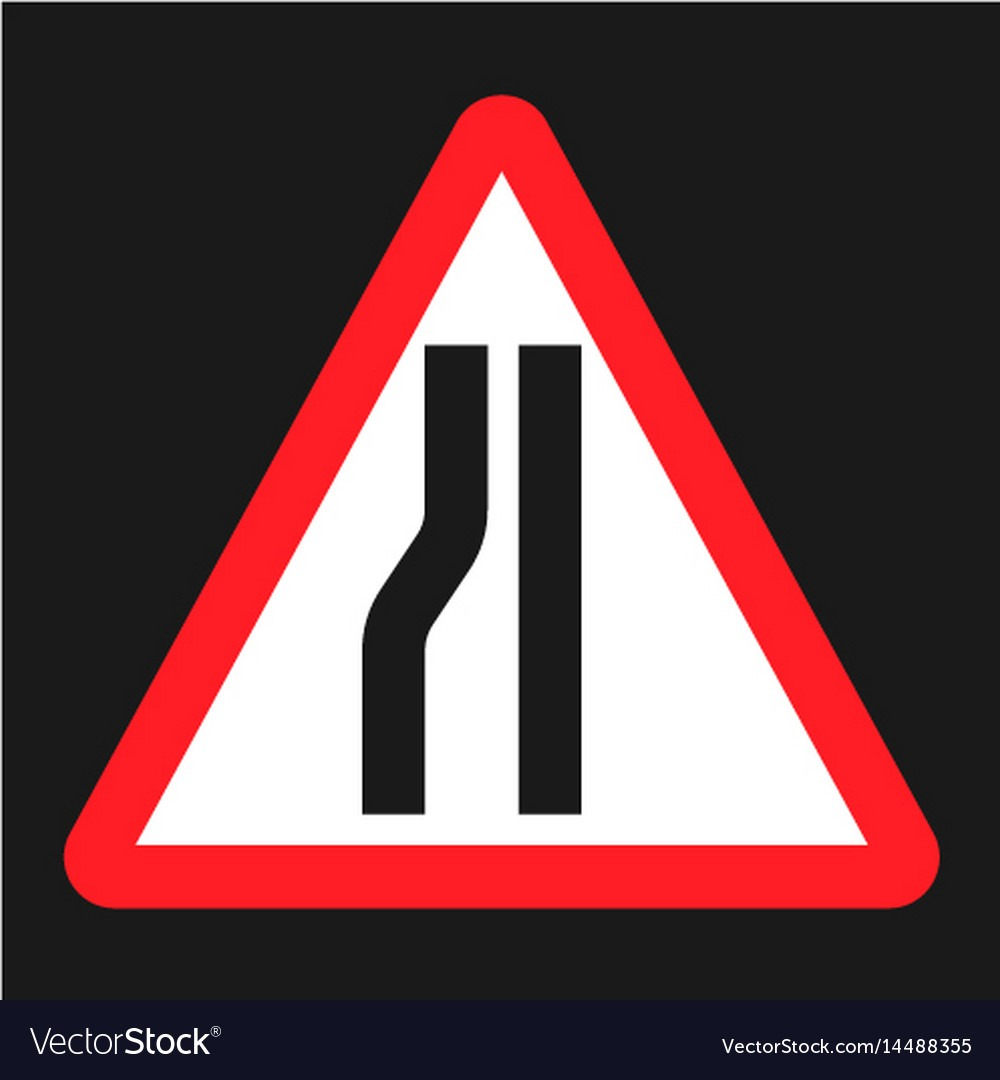narrow-road: (330, 311, 625, 853)
